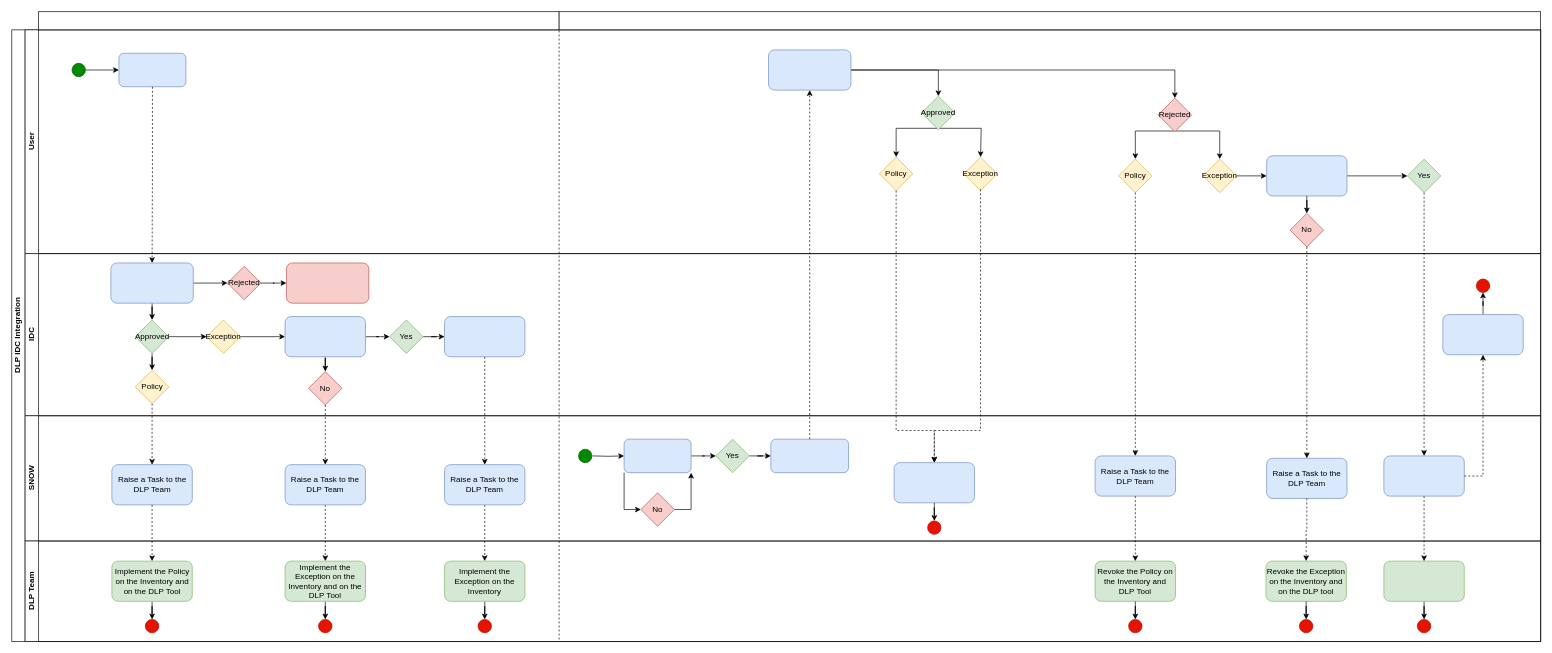
Some shapes in this 1552 by 653 pixel diagram are drawn without their labels. The shapes that lost their labels are listed below. From the top down, each one's centre as x and y in pixels, then its label:
At (x=298, y=20): "New Policies & Exceptions".
At (x=1049, y=20): "Policies & Exceptions Lifecycle".
At (x=152, y=70): "Request Policy or Exception".
At (x=809, y=69): "Approval Flow: Owner->LM->RISO".
At (x=1306, y=175): "The Exception is set by AD Groups?".
At (x=151, y=282): "Approval Flow: LM->RISO->OpCo-1".
At (x=327, y=282): "Discard the request".
At (x=324, y=336): "The Exception can be set by AD Groups?".
At (x=484, y=336): "Implement the exception on the AD Group".
At (x=1482, y=334): "Revoke the Exception on the AD Group".
At (x=657, y=456): "Policy or Exception is about to expire?".
At (x=809, y=456): "Automated Emails to the Owner and LM".
At (x=1423, y=475): "Raise a Task to GSA and DLP Team".
At (x=934, y=482): "Notify the DLP Team and renewal the revision date".
At (x=1423, y=580): "Revoke the Exception on the Inventory".
